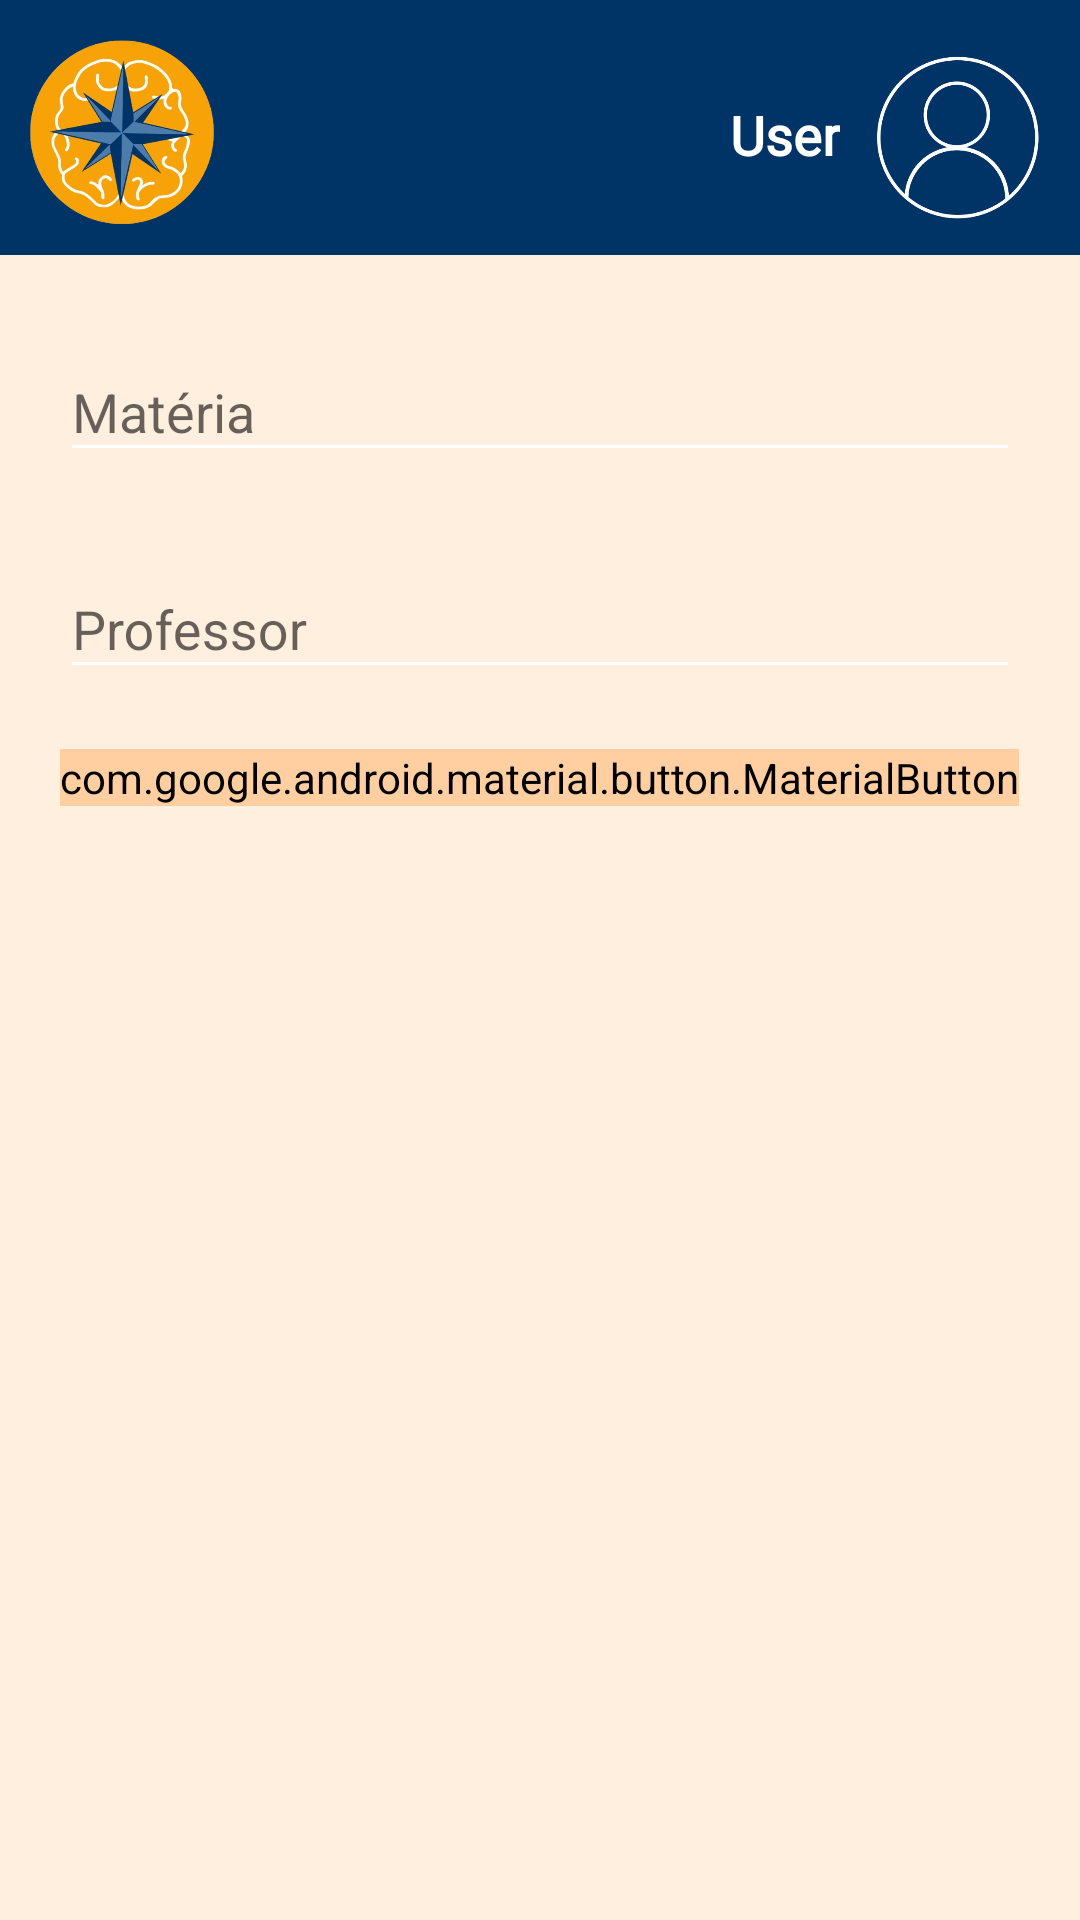

Icon click points for this 1080×1920 phone screenshot, format (x,y):
perfil: (958,138)
